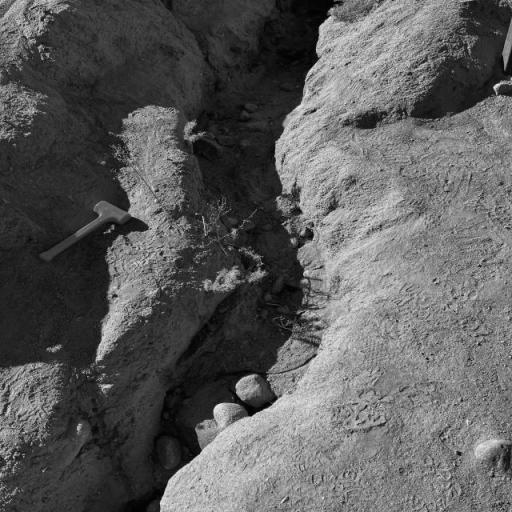mallet: (36, 200, 135, 266)
